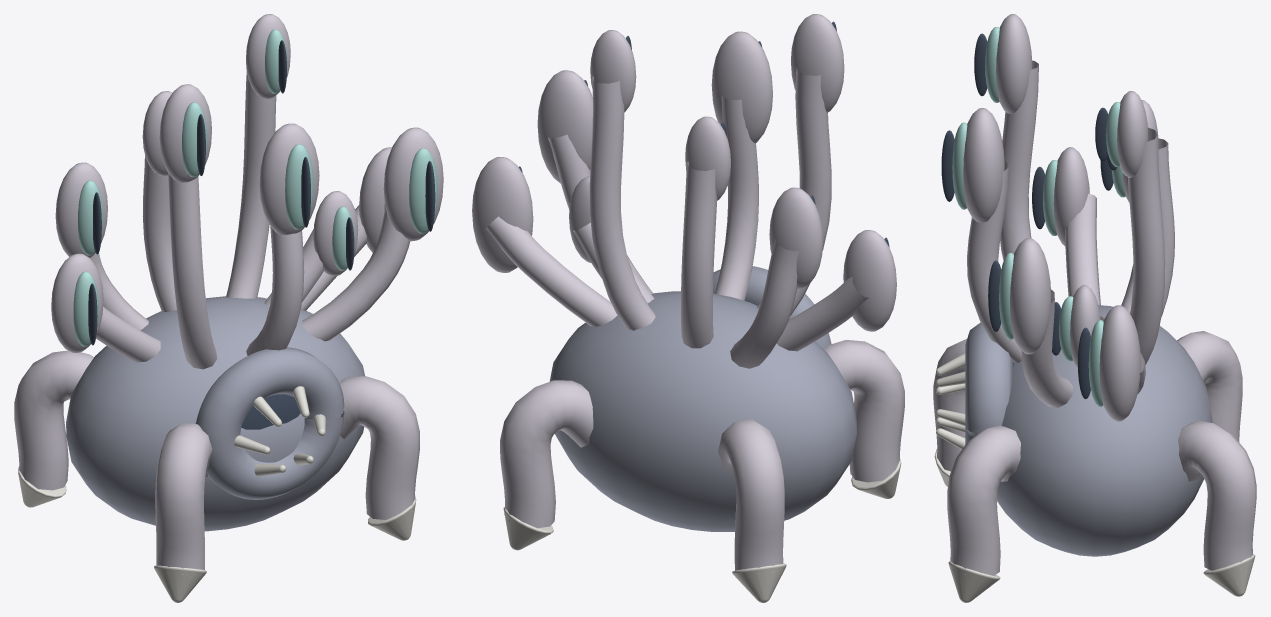
File: bio_eye_orchard_05_near.glb
3 renders of one model, left to right at view 1: azimuth 30°, elevation 25°; view 2: azimuth 150°, elevation 25°; view 3: azimuth 270°, elevation 25°, orthographic. The views are drawn at different scales.
Parts seen in each view (by area): view 1: Rooted muscular caudex, Raised oral lip, Asymmetric ocular branch.007, Asymmetric ocular branch.005, Crooked support.003, Asymmetric ocular branch.003, Asymmetric ocular branch.002, Crooked support.001, Crooked support.002, Asymmetric ocular branch.006, Asymmetric ocular branch.004, Asymmetric ocular branch.001 (+16 smaller); view 2: Rooted muscular caudex, Asymmetric ocular branch.003, Asymmetric ocular branch.002, Asymmetric ocular branch.008, Crooked support, Asymmetric ocular branch.006, Asymmetric ocular branch.007, Asymmetric ocular branch.001, Crooked support.001, Crooked support.002, Asymmetric ocular branch.004, Asymmetric ocular branch.005 (+5 smaller); view 3: Rooted muscular caudex, Asymmetric ocular branch.003, Crooked support, Crooked support.003, Asymmetric ocular branch.002, Asymmetric ocular branch.007, Asymmetric ocular branch.005, Asymmetric ocular branch.004, Raised oral lip, Asymmetric ocular branch.008, Crooked support.001, Crooked support.002 (+18 smaller).
Part boxes in pixels (box(x1,y1,x2,y2)): Rooted muscular caudex: box(66, 296, 364, 531); Raised oral lip: box(195, 347, 344, 499); Asymmetric ocular branch.007: box(159, 84, 217, 369); Asymmetric ocular branch.005: box(302, 127, 443, 341); Crooked support.003: box(334, 376, 419, 519); Asymmetric ocular branch.003: box(226, 14, 290, 298); Asymmetric ocular branch.002: box(246, 123, 319, 355); Crooked support.001: box(14, 350, 93, 490); Crooked support.002: box(155, 423, 212, 574); Asymmetric ocular branch.006: box(142, 91, 176, 311); Asymmetric ocular branch.004: box(51, 253, 160, 362); Asymmetric ocular branch.001: box(55, 162, 148, 330); Rooted muscular caudex: box(549, 291, 856, 531); Asymmetric ocular branch.003: box(589, 30, 655, 330); Asymmetric ocular branch.002: box(711, 31, 772, 300); Asymmetric ocular branch.008: box(472, 157, 617, 327); Crooked support: box(500, 380, 593, 528); Asymmetric ocular branch.006: box(681, 116, 730, 348); Asymmetric ocular branch.007: box(757, 14, 844, 315); Asymmetric ocular branch.001: box(730, 187, 822, 368); Crooked support.001: box(718, 419, 784, 574); Crooked support.002: box(824, 340, 904, 482); Asymmetric ocular branch.004: box(776, 230, 896, 351); Asymmetric ocular branch.005: box(537, 70, 653, 293); Rooted muscular caudex: box(997, 305, 1212, 556); Asymmetric ocular branch.003: box(1117, 91, 1165, 364); Crooked support: box(1178, 421, 1256, 570); Crooked support.003: box(947, 425, 1020, 575); Asymmetric ocular branch.002: box(963, 108, 1021, 362); Asymmetric ocular branch.007: box(996, 14, 1038, 260); Asymmetric ocular branch.005: box(1010, 238, 1072, 407); Asymmetric ocular branch.004: box(1053, 147, 1100, 305); Raised oral lip: box(965, 322, 1012, 444); Asymmetric ocular branch.008: box(1099, 305, 1145, 421); Crooked support.001: box(1177, 331, 1242, 441); Crooked support.002: box(933, 339, 966, 471).
Bounding box in the file's own units: 1.71 × 2.05 × 1.22.
